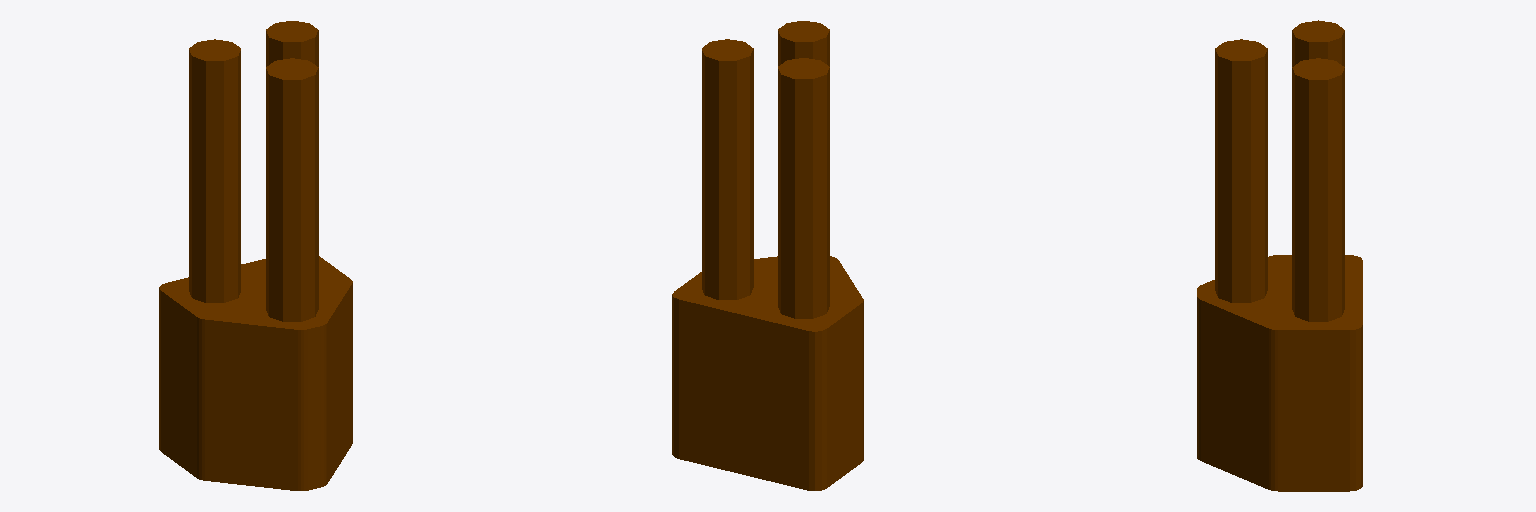
robot.urdf — Small_Short_3Prong_Brown:
<?xml version="1.0"?>
<robot name="Small_Short_3Prong_Brown">
    <link name="Small_Short_3Prong_Brown">
        <visual>
            <geometry>
                <mesh filename="../mesh/factory_insertion/Small_Short_3Prong_Brown.obj" scale="0.001 0.001 0.001"/>
            </geometry>
            <material name="Brown">
              <color rgba="0.46 0.25 0 0"/>
            </material>
        </visual>
        <collision>
            <geometry>
                <mesh filename="../mesh/factory_insertion/Small_Short_3Prong_Brown.obj" scale="0.001 0.001 0.001"/>
            </geometry>
            <sdf resolution="512"/>
        </collision>
    </link>
</robot>

--- What the picture shows (computed from the rendered views, not written in the file) ---
3 views of the same robot in one strip: view 1: azimuth 30°, elevation 25°; view 2: azimuth 150°, elevation 25°; view 3: azimuth 270°, elevation 25° (orthographic).
Model Small_Short_3Prong_Brown with 1 links and 0 joints (none), rooted at Small_Short_3Prong_Brown, posed all joints at 0.
Links seen in each view (by area): view 1: Small_Short_3Prong_Brown; view 2: Small_Short_3Prong_Brown; view 3: Small_Short_3Prong_Brown.
Boxes of the visible links, x1,y1,x2,y2 form: Small_Short_3Prong_Brown: (159, 21, 352, 490); Small_Short_3Prong_Brown: (672, 21, 863, 490); Small_Short_3Prong_Brown: (1197, 20, 1362, 491).
Size in the robot's own frame: 0.04 by 0.0373 by 0.1 metres.
Meshes: 1 distinct files referenced, 1 mesh visuals loaded (1 OBJ).
